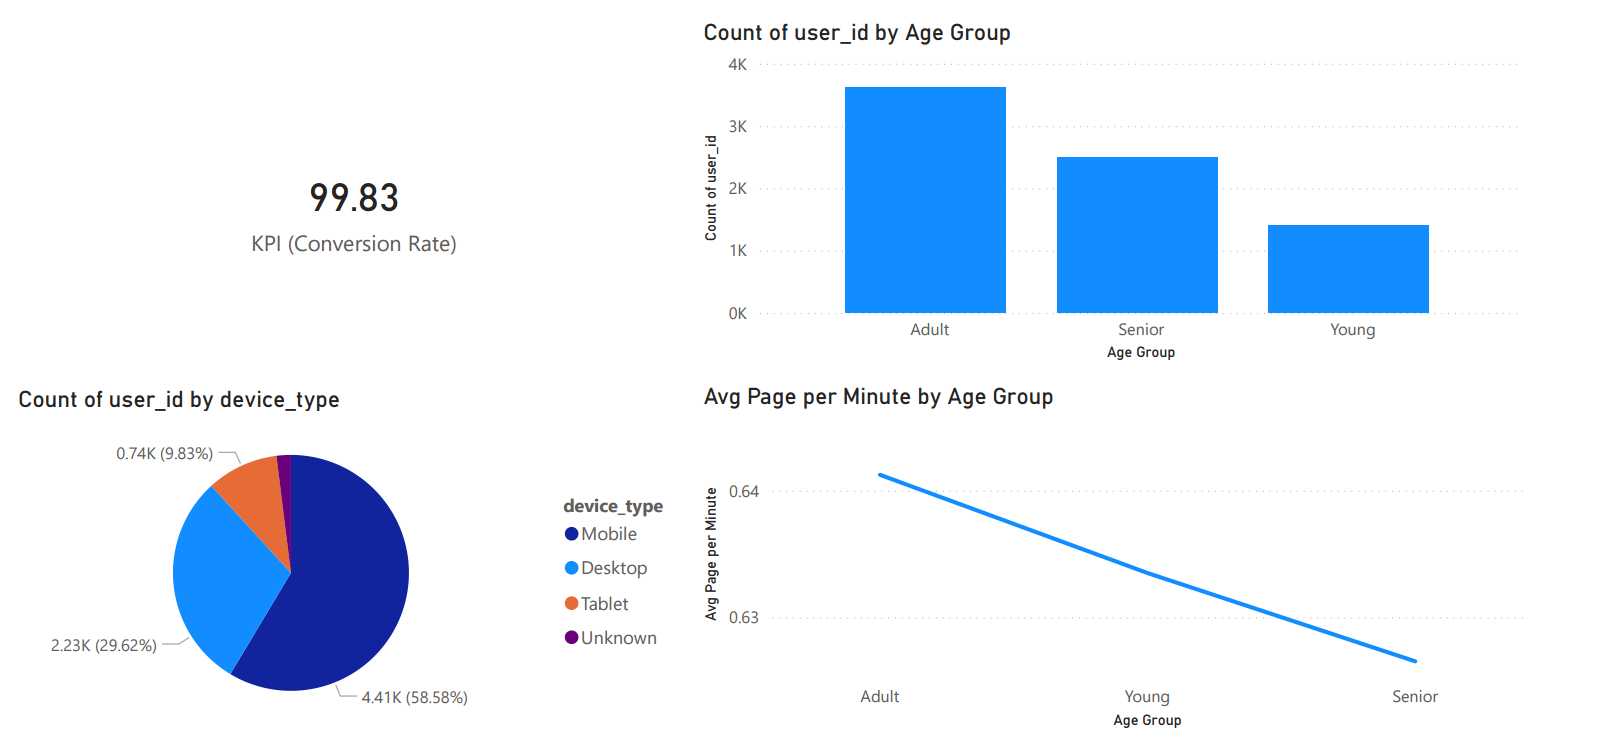

This screenshot's page, from the dashboard's own definition file:
{"tool":"powerbi","page":{"name":"Page 1","canvas":[1280,720],"ordinal":1},"visuals":[{"type":"card","fields":{"Values":["ecommerce_user_behavior_8000.Conversion Rate"]},"box":[0,12.3,502.6,256.1],"z":3},{"type":"clusteredColumnChart","fields":{"Category":["ecommerce_user_behavior_8000.Age Group"],"Y":["CountNonNull(ecommerce_user_behavior_8000.user_id)"]},"box":[502.6,0,611.5,256.1],"z":4},{"type":"pieChart","fields":{"Category":["ecommerce_user_behavior_8000.device_type"],"Y":["CountNonNull(ecommerce_user_behavior_8000.user_id)"]},"box":[0,268.5,502,257],"z":5},{"type":"lineChart","fields":{"Y":["ecommerce_user_behavior_8000.Avg Page per Minute"],"Category":["ecommerce_user_behavior_8000.Age Group"]},"box":[502.6,267,611.5,258.8],"z":6},{"type":"funnel","fields":{"Category":["ecommerce_user_behavior_8000.Age Group"],"Y":["Sum(ecommerce_user_behavior_8000.cart_items)"]},"box":[182.5,525.7,638.8,183.9],"z":7}]}

Visuals, with their boxes on the page's 1280x720 design canvas (x1, y1, x2, y2). These are canvas units, not pixel positions in the 1603x737 screenshot, which may show the page scaled, cropped or inside an application window:
card - ecommerce_user_behavior_8000.Conversion Rate: <bbox>0, 12, 503, 268</bbox>
clusteredColumnChart - ecommerce_user_behavior_8000.Age Group x CountNonNull(ecommerce_user_behavior_8000.user_id): <bbox>503, 0, 1114, 256</bbox>
pieChart - ecommerce_user_behavior_8000.device_type x CountNonNull(ecommerce_user_behavior_8000.user_id): <bbox>0, 268, 502, 526</bbox>
lineChart - ecommerce_user_behavior_8000.Avg Page per Minute x ecommerce_user_behavior_8000.Age Group: <bbox>503, 267, 1114, 526</bbox>
funnel - ecommerce_user_behavior_8000.Age Group x Sum(ecommerce_user_behavior_8000.cart_items): <bbox>182, 526, 821, 710</bbox>
